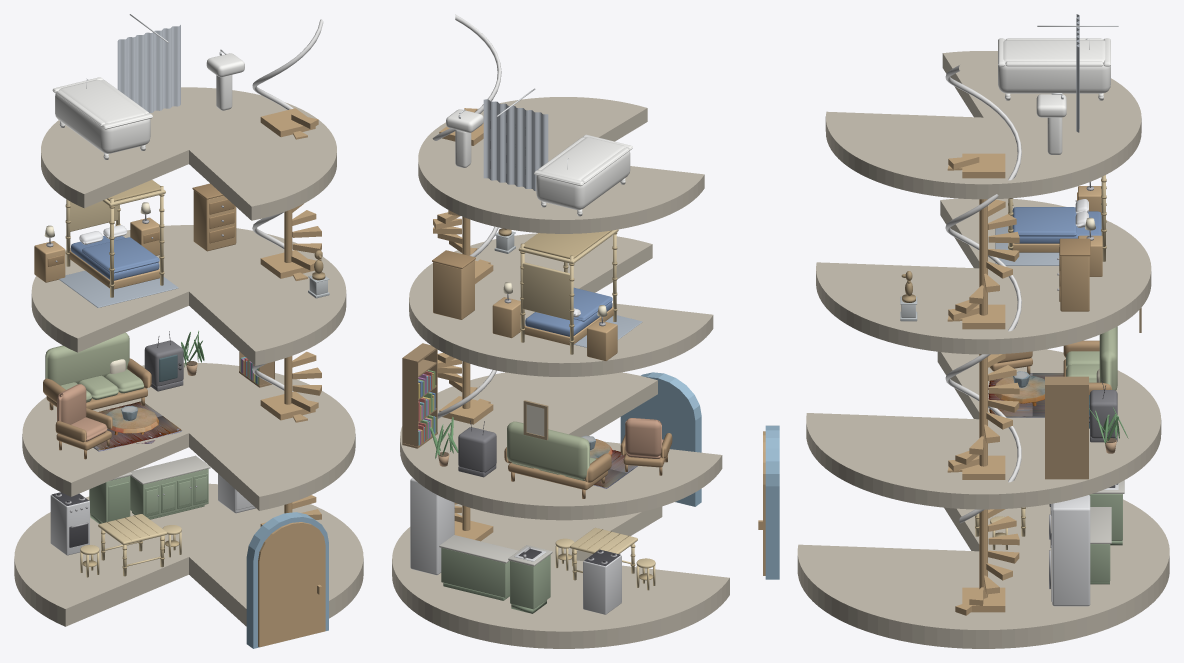
File: squidward-interior-layout-v7.glb
3 views of the same model, side by side, from view 1: azimuth 30°, elevation 25°; view 2: azimuth 150°, elevation 25°; view 3: azimuth 270°, elevation 25° (orthographic). The views are drawn at different scales.
Parts seen in each view (by area): view 1: floor_2, floor_4, floor_3, floor_1, door_panel, bath_shower-curtain_00, bath_bathtub_00, living_sofa_04, door_frame, bedroom_bed-rug_00, bedroom_bed_33, kitchen_stove_00 (+26 smaller); view 2: floor_2, floor_1, floor_3, floor_4, bath_shower-curtain_00, bath_bathtub_00, door_frame, kitchen_fridge_00, living_sofa_04, kitchen_cabinets_01, bedroom_bed_30, bedroom_dresser_00 (+25 smaller); view 3: floor_1, floor_2, floor_4, floor_3, bath_bathtub_00, kitchen_fridge_00, living_bookshelf_04, stairs_handrail, stairs_pole, door_frame, bedroom_bed_33, bedroom_dresser_00 (+17 smaller).
Part boxes in pixels (left/top/right/bottom): floor_2: left=22, top=362, right=355, bottom=510; floor_4: left=41, top=87, right=336, bottom=220; floor_3: left=31, top=225, right=346, bottom=365; floor_1: left=14, top=483, right=363, bottom=626; door_panel: left=258, top=522, right=325, bottom=647; bath_shower-curtain_00: left=117, top=25, right=180, bottom=112; bath_bathtub_00: left=55, top=79, right=150, bottom=153; living_sofa_04: left=45, top=332, right=129, bottom=385; door_frame: left=246, top=512, right=328, bottom=648; bedroom_bed-rug_00: left=59, top=270, right=178, bottom=307; bedroom_bed_33: left=82, top=237, right=159, bottom=273; kitchen_stove_00: left=50, top=495, right=89, bottom=555; floor_2: left=400, top=372, right=722, bottom=520; floor_1: left=392, top=504, right=729, bottom=648; floor_3: left=409, top=233, right=713, bottom=376; floor_4: left=418, top=97, right=704, bottom=233; bath_shower-curtain_00: left=483, top=99, right=548, bottom=191; bath_bathtub_00: left=536, top=137, right=630, bottom=210; door_frame: left=620, top=372, right=701, bottom=506; kitchen_fridge_00: left=410, top=478, right=454, bottom=575; living_sofa_04: left=507, top=421, right=589, bottom=479; kitchen_cabinets_01: left=441, top=548, right=509, bottom=597; bedroom_bed_30: left=522, top=262, right=569, bottom=320; bedroom_dresser_00: left=433, top=260, right=474, bottom=319; floor_1: left=797, top=499, right=1169, bottom=648; floor_2: left=806, top=349, right=1161, bottom=509; floor_4: left=825, top=51, right=1141, bottom=199; floor_3: left=816, top=198, right=1151, bottom=354; bath_bathtub_00: left=998, top=40, right=1110, bottom=93; kitchen_fridge_00: left=1052, top=495, right=1090, bottom=606; living_bookshelf_04: left=1045, top=384, right=1088, bottom=479; stairs_handrail: left=945, top=65, right=1021, bottom=523; stairs_pole: left=979, top=199, right=987, bottom=598; door_frame: left=765, top=425, right=779, bottom=579; bedroom_bed_33: left=1012, top=207, right=1077, bottom=236; bedroom_dresser_00: left=1060, top=256, right=1089, bottom=311.
Size of the model in its own units: 2.68 by 4.53 by 2.97.
Materials: 110 (2 with a texture image).
